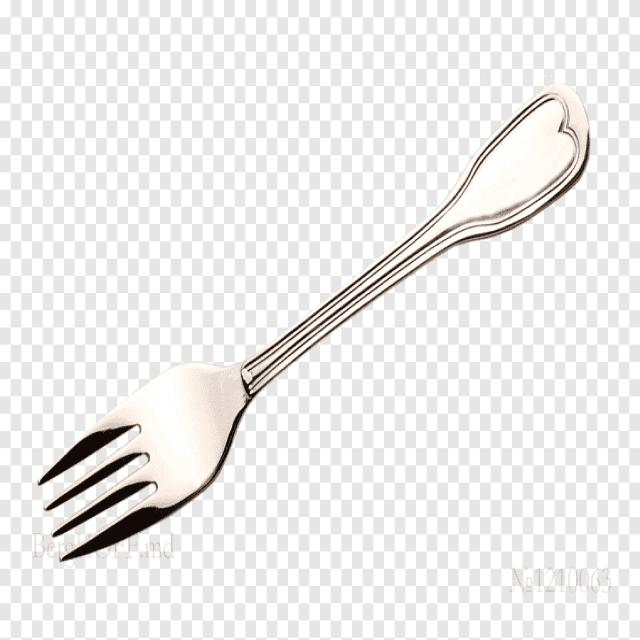Garpu: (29, 77, 604, 588)
